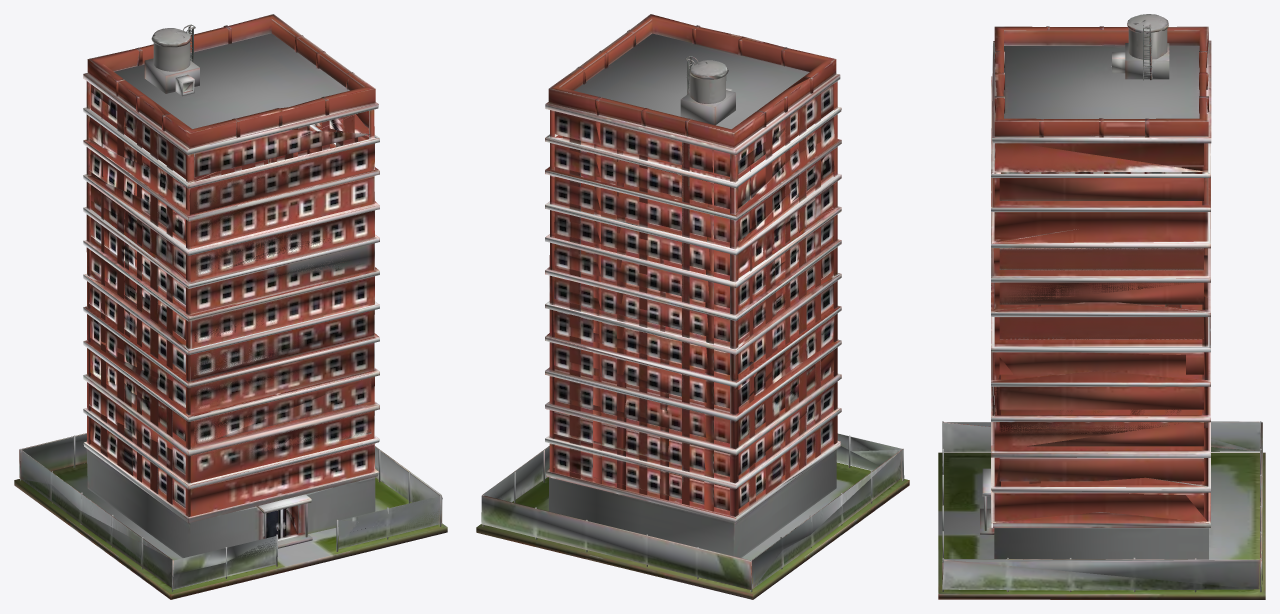
Rendered from southside-towers.glb.
3 views of the same model, side by side, from view 1: azimuth 30°, elevation 25°; view 2: azimuth 150°, elevation 25°; view 3: azimuth 270°, elevation 25° (orthographic). The views are drawn at different scales.
Size of the model in its own units: 0.5835 by 0.9507 by 0.5713.
1 material, 1 textured.
